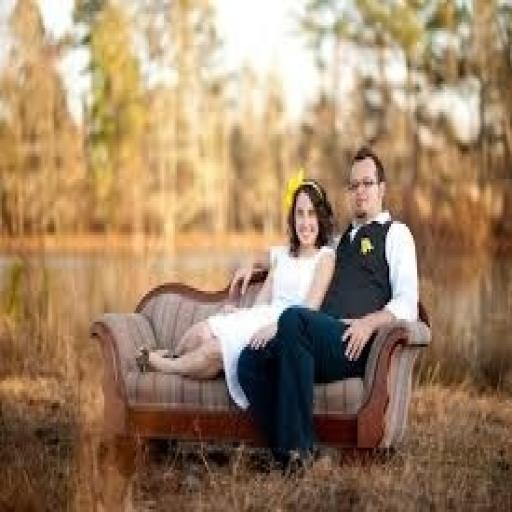sitting: (134, 140, 423, 476)
